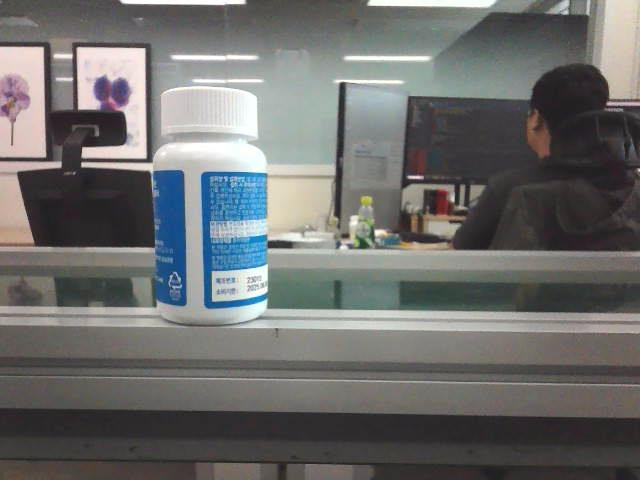labeled: (149, 80, 272, 328)
